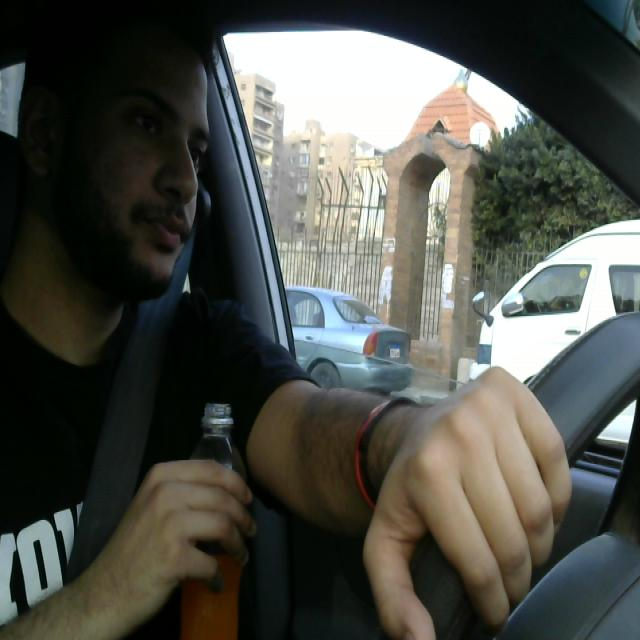drinking: (182, 407, 245, 640)
